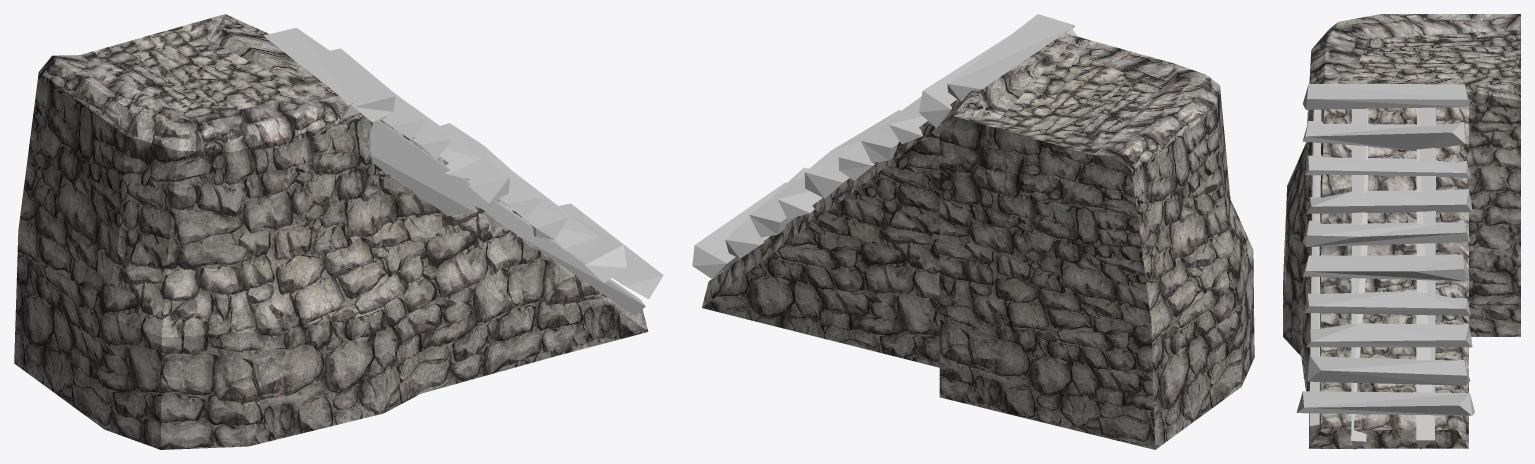
File: StoneRamp_1b_LOD3.fbx
3 views of the same model, side by side, from view 1: azimuth 30°, elevation 25°; view 2: azimuth 150°, elevation 25°; view 3: azimuth 270°, elevation 25° (orthographic). The views are drawn at different scales.
Visible parts, largest first — view 1: Stone, Wood; view 2: Stone, Wood; view 3: Stone, Wood.
Boxes of the visible parts, x1,y1,x2,y2 form: Stone: (14,14,648,449); Wood: (263,27,663,316); Stone: (702,33,1254,449); Wood: (692,14,1077,278); Stone: (1283,14,1520,448); Wood: (1296,84,1474,449).
Bounding box in the file's own units: 1011 × 484 × 563.
